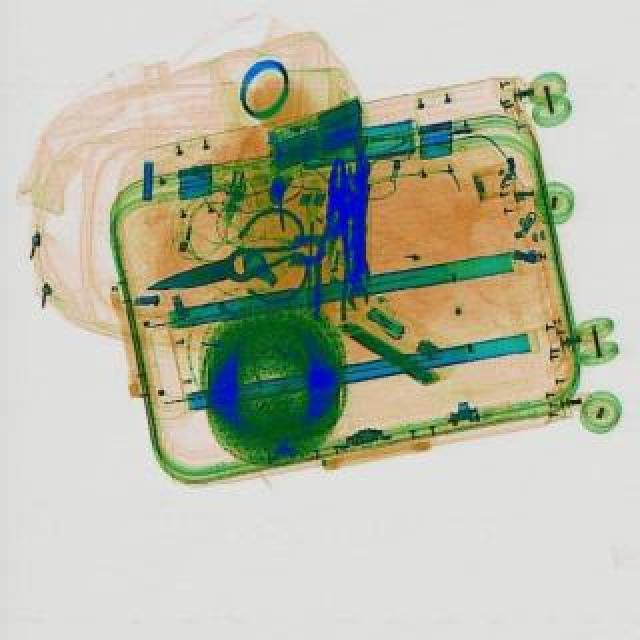pliers: (130, 200, 318, 328)
scissors: (346, 160, 370, 308)
wrench: (310, 156, 356, 320)
